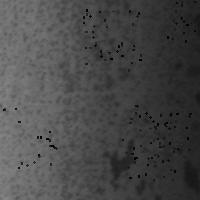pitted_surface: (5, 3, 172, 200), (122, 120, 180, 179), (83, 9, 140, 69), (133, 106, 189, 165), (130, 103, 188, 157), (3, 108, 55, 167), (167, 0, 200, 53)
